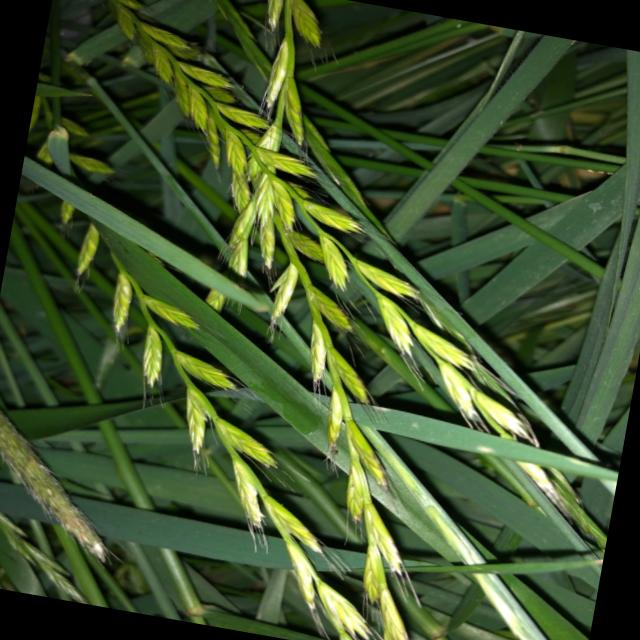Lolium: (15, 0, 597, 452), (0, 100, 448, 640), (144, 139, 488, 640), (237, 0, 331, 150)
